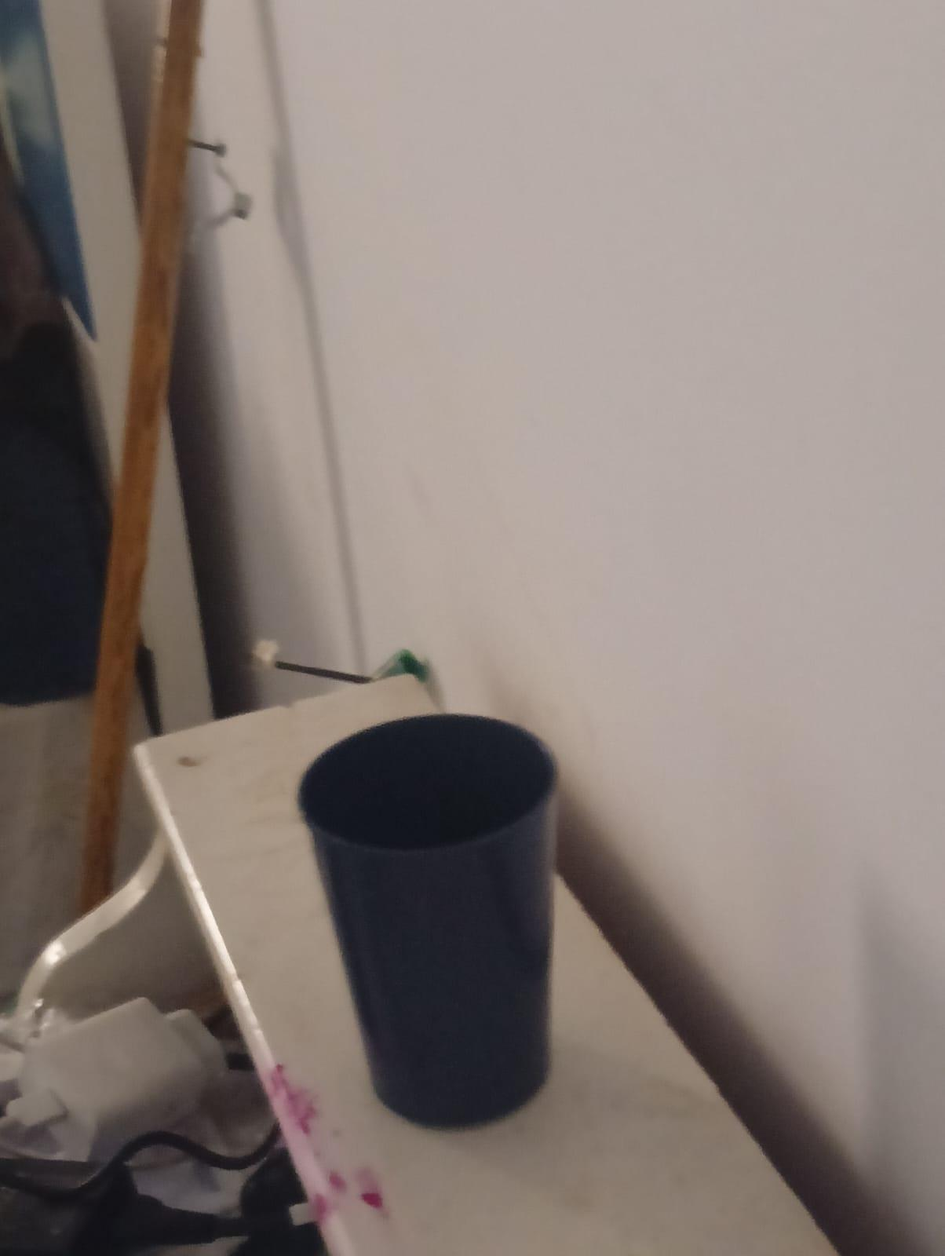cup: (297, 714, 556, 1126), (294, 711, 560, 860)
